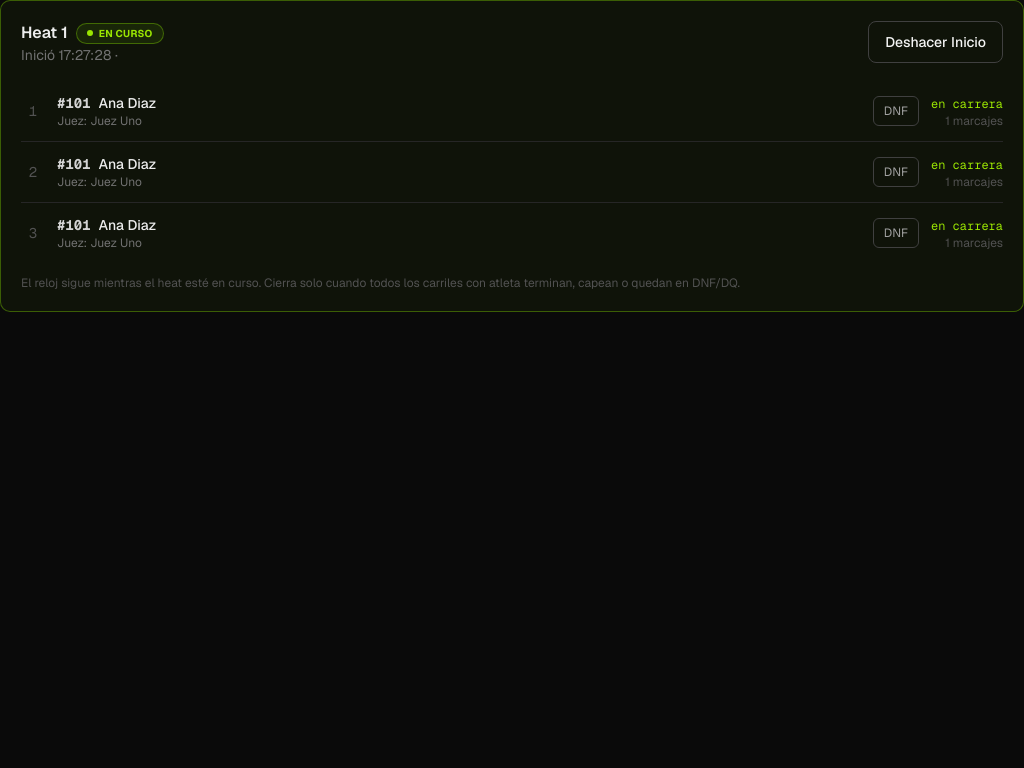
el aviso de confirmacion › cuenta los relojes que se detienen (un juez puede cubrir varios carriles)
Click the button "Deshacer Inicio".
click(936, 42)  # box [868,21,1003,63]
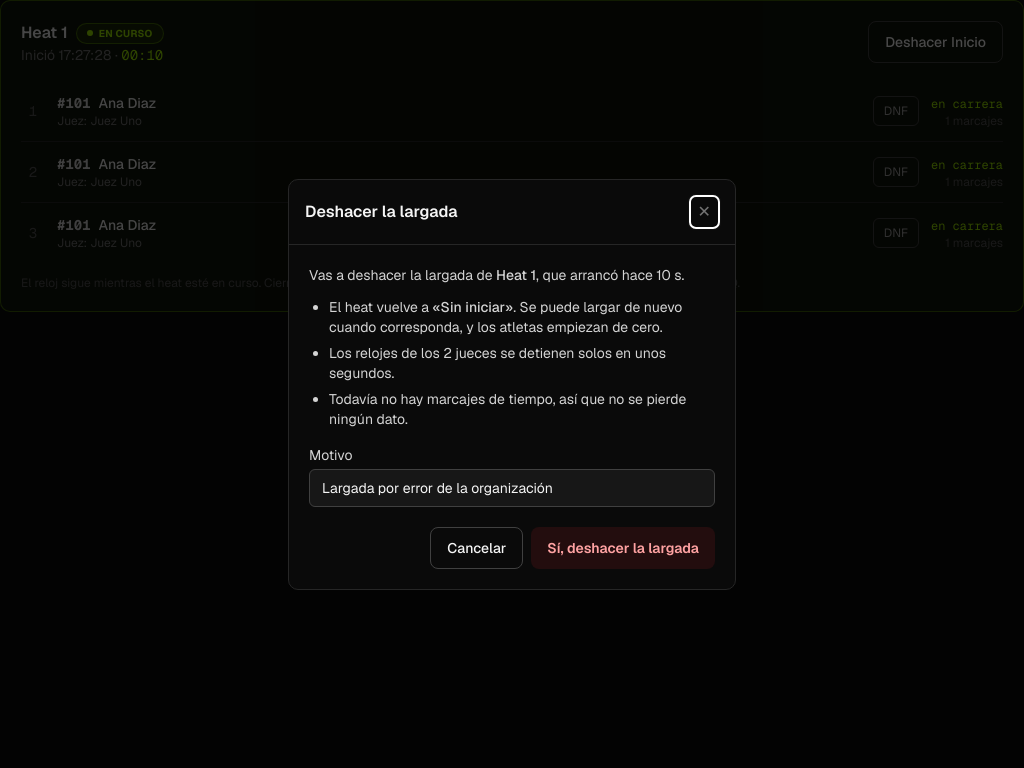
Check: the list item "Los relojes de los 2 jueces se detienen" is shown, box [329,344,574,362]
